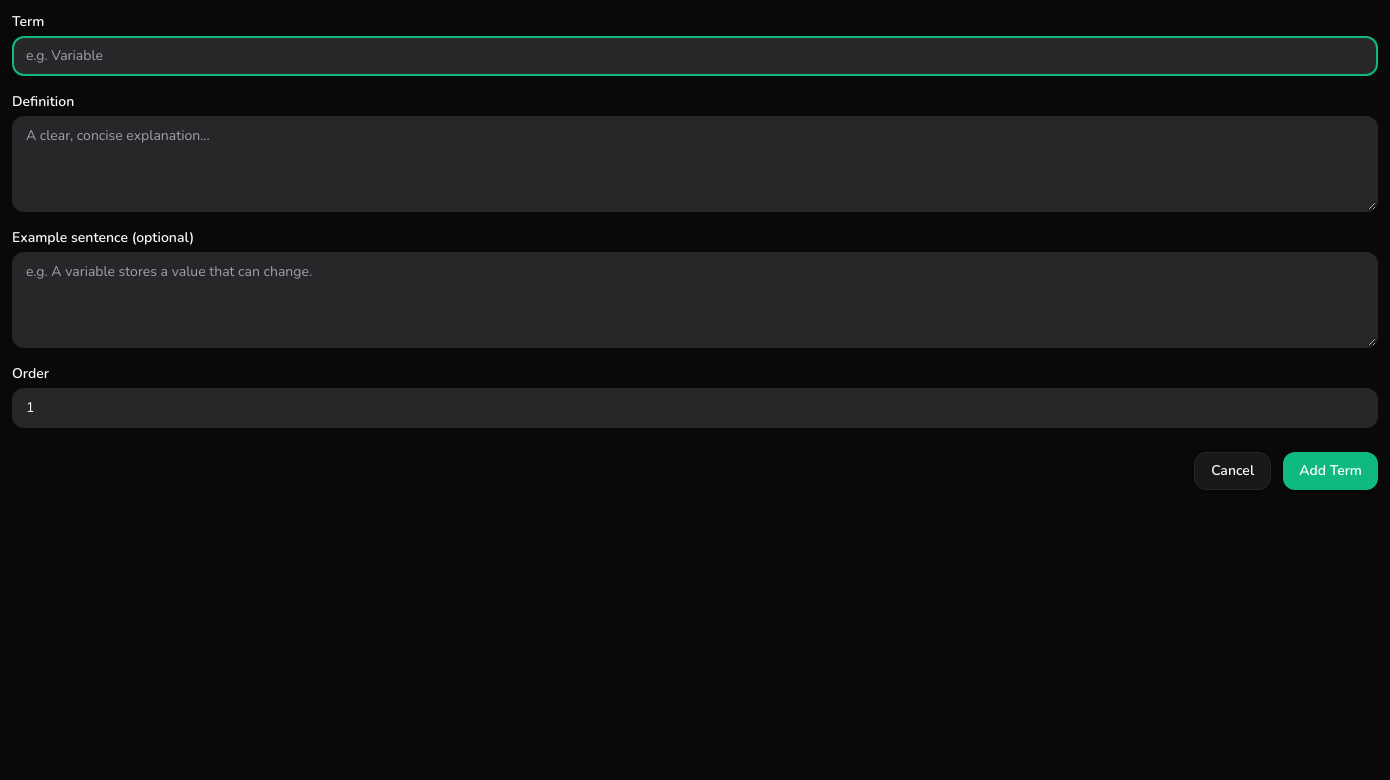
Test: VocabForm › shows validation error when submitted with empty fields
This screenshot has width=1390, height=780.
Click the button "Add Term" at (1331, 471), box [1283,452,1378,490]
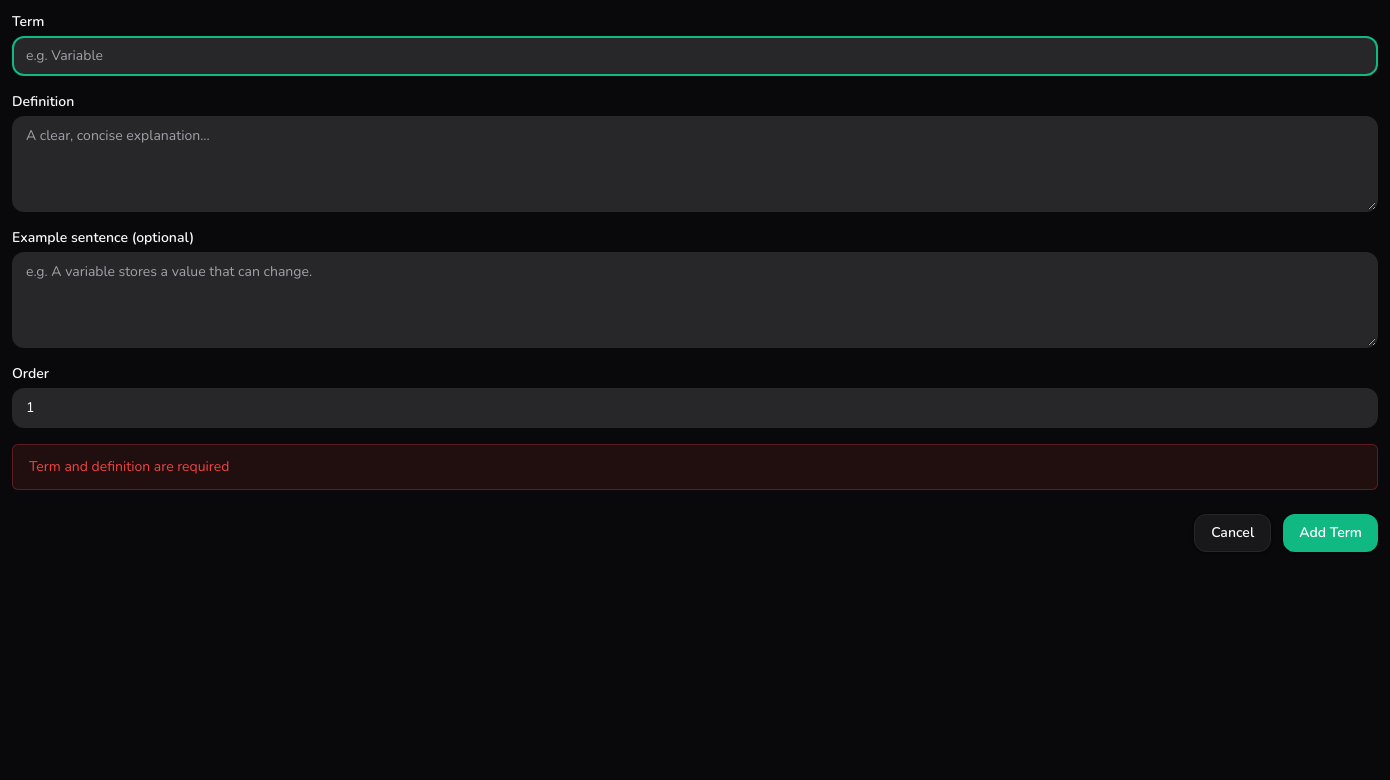
Now the text "Term and definition are required" is shown, box [12,444,1378,490]
